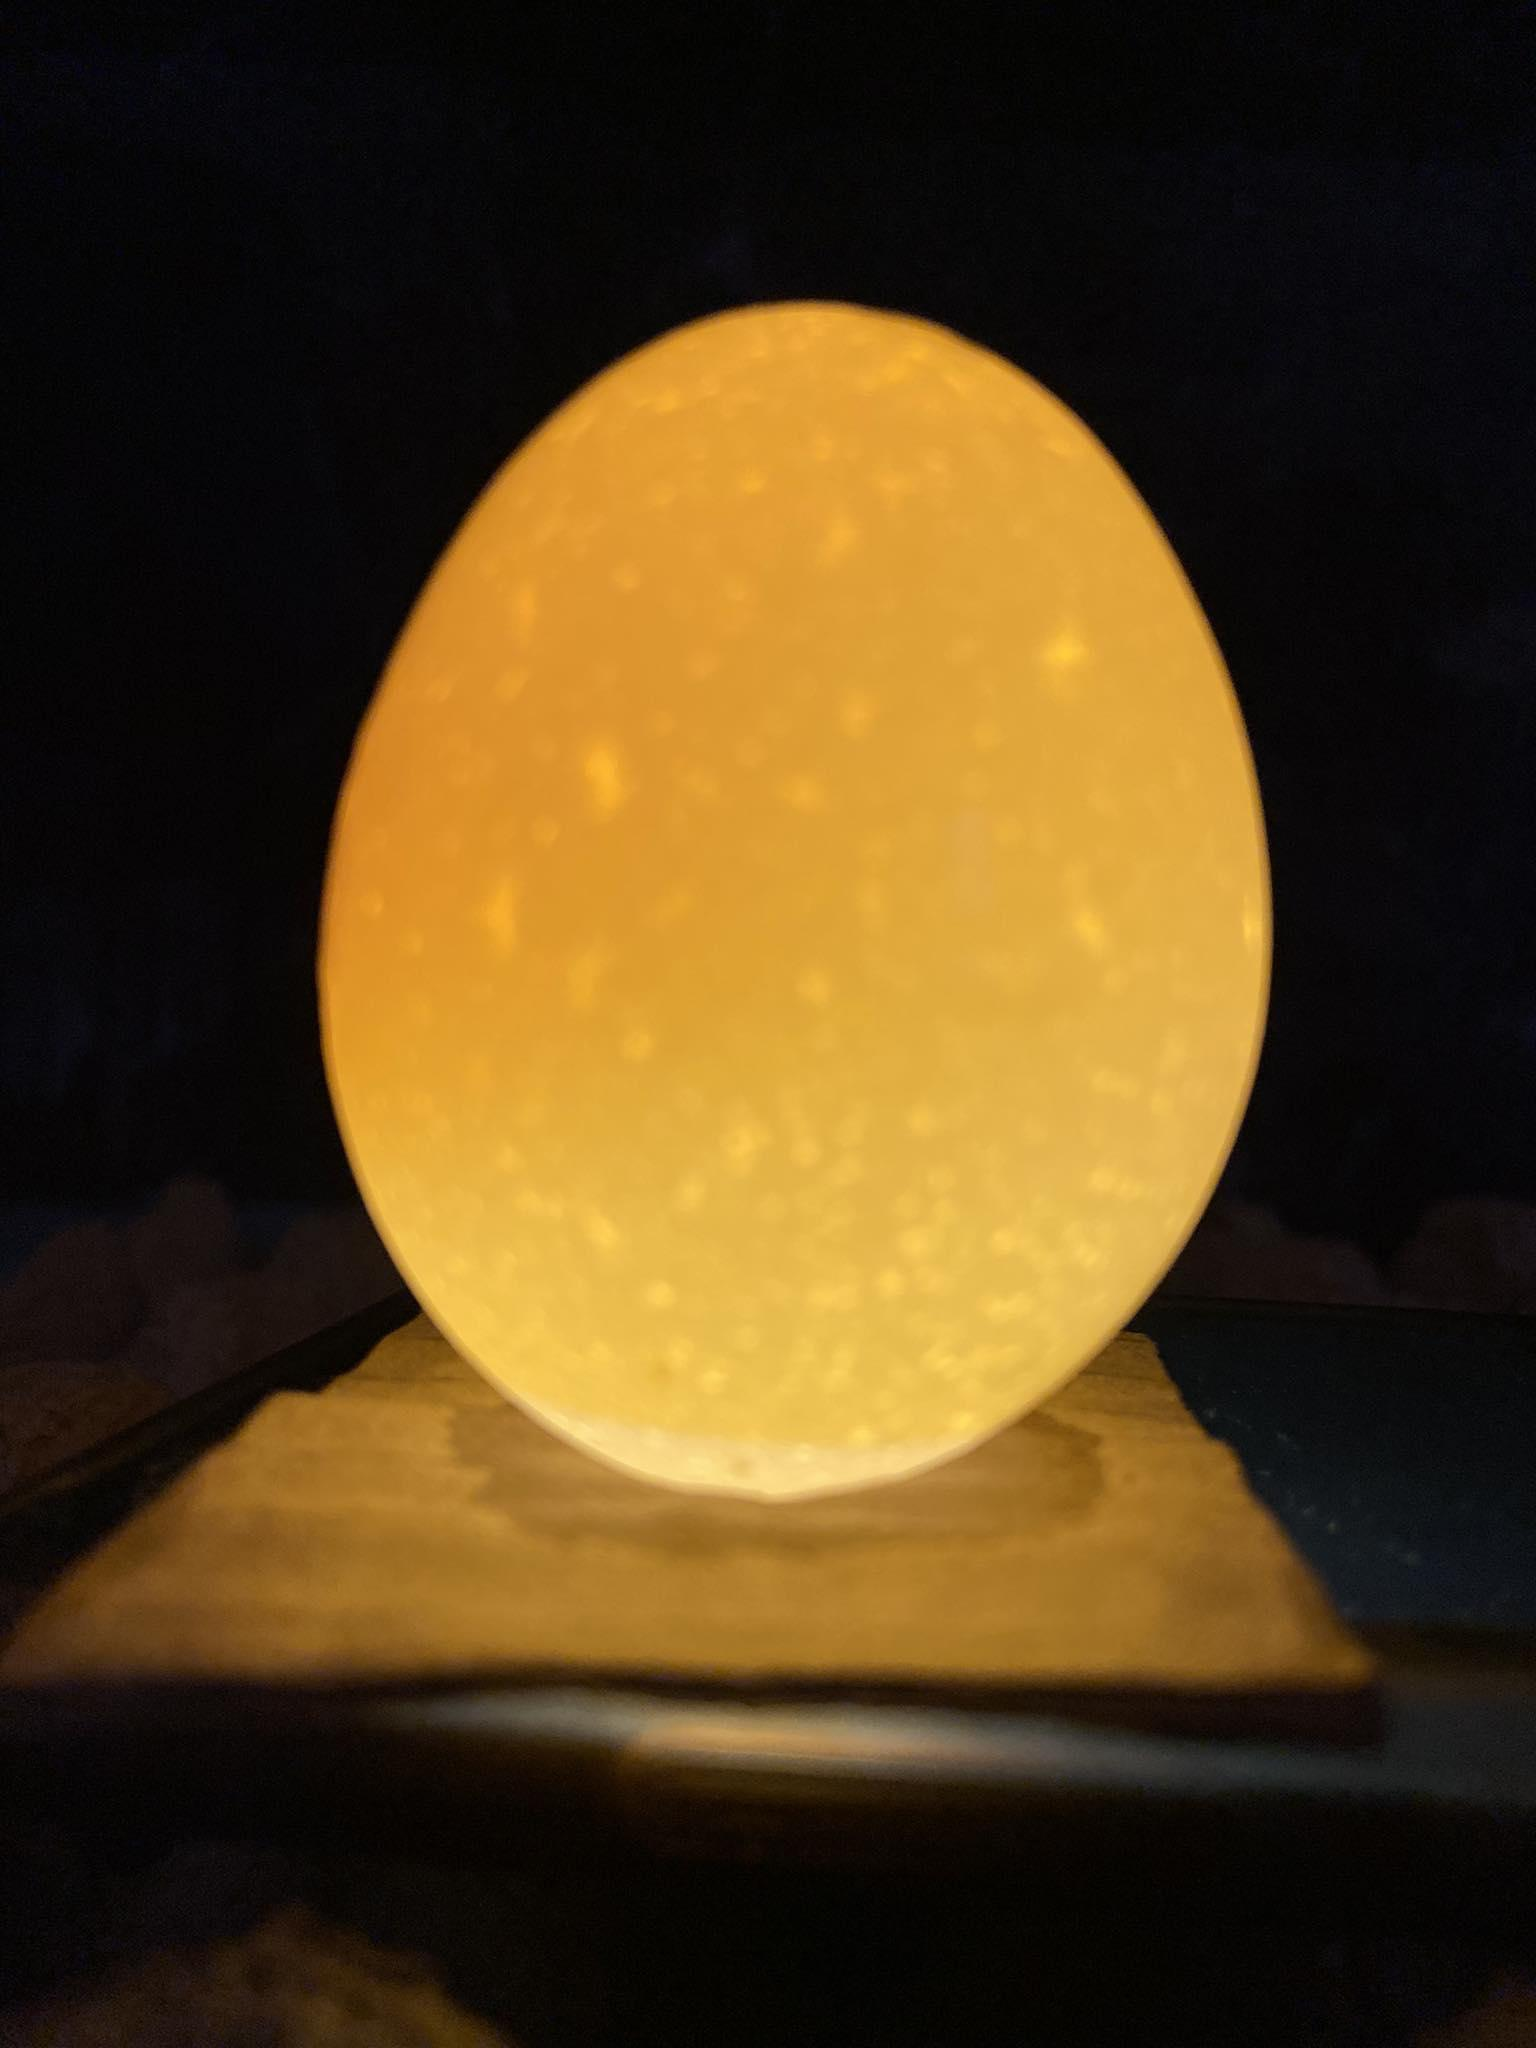AA - Premium: (281, 281, 1294, 1521)
